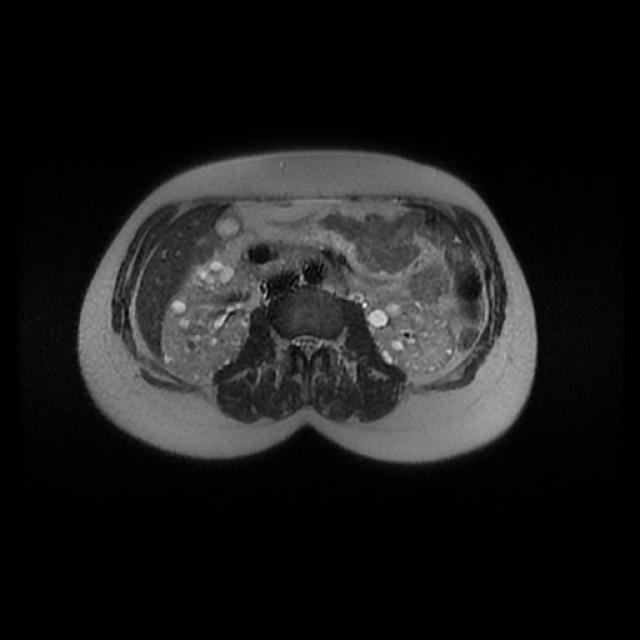sag: (159, 258, 263, 379)
sol: (366, 295, 454, 372)
